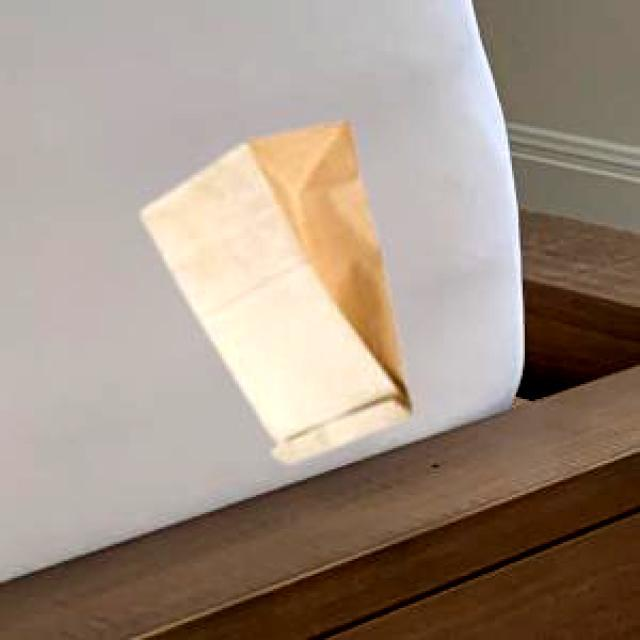Paper_Bag: (140, 120, 408, 460)
